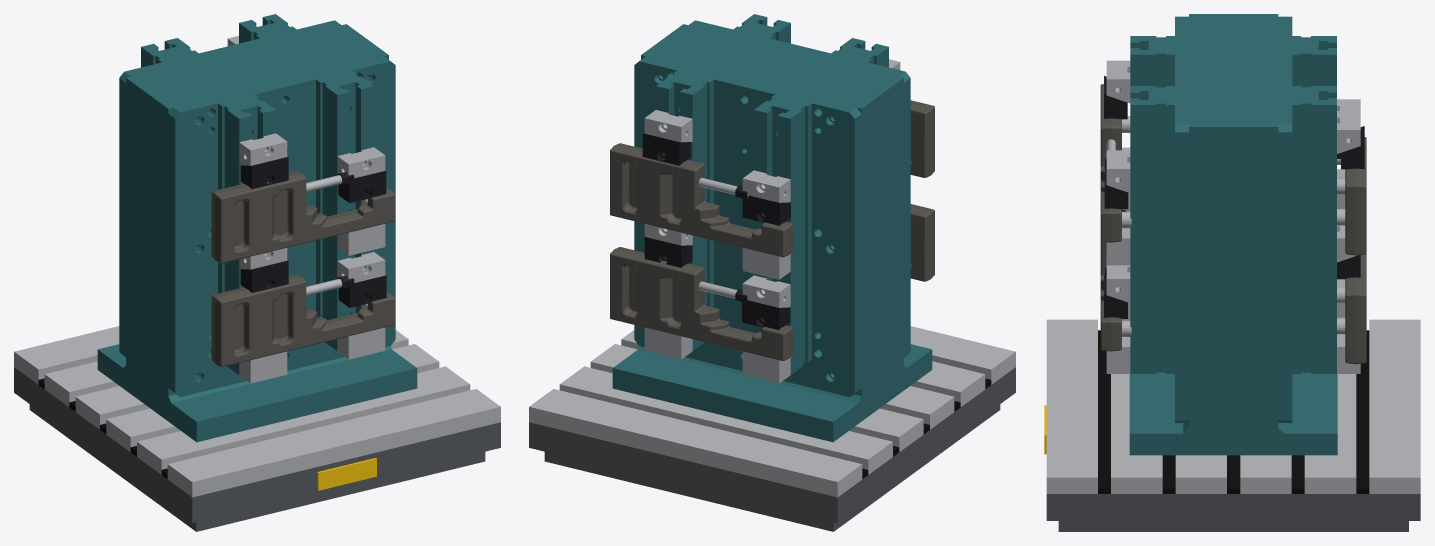
File: pallet_part00_phase10_loaded.glb
3 views of the same model, side by side, from view 1: azimuth 30°, elevation 25°; view 2: azimuth 150°, elevation 25°; view 3: azimuth 270°, elevation 25° (orthographic). The views are drawn at different scales.
Parts seen in each view (by area): view 1: fixture__fx_paint, pallet_body__pb_steel, pallet_body__pb_steel_dark, part_2__part_raw, part_1__part_raw, fixture__fx_steel, pallet_body__pb_safety_yellow, gripper_jaw_4__fx_oxide, gripper_jaw_3__fx_oxide, gripper_jaw_8__fx_oxide, gripper_jaw_5__fx_oxide; view 2: fixture__fx_paint, pallet_body__pb_steel, pallet_body__pb_steel_dark, part_3__part_raw, part_4__part_raw, fixture__fx_steel, part_2__part_raw, part_1__part_raw, gripper_jaw_7__fx_oxide, gripper_jaw_2__fx_oxide, gripper_jaw_1__fx_oxide, gripper_jaw_6__fx_oxide; view 3: fixture__fx_paint, pallet_body__pb_steel, pallet_body__pb_steel_dark, fixture__fx_steel, pallet_body__pb_rubber, part_3__part_raw, part_4__part_raw, part_2__part_raw, part_1__part_raw, gripper_jaw_7__fx_oxide, gripper_jaw_8__fx_oxide, gripper_jaw_3__fx_oxide (+2 smaller).
Part boxes in pixels (x1,y1,x2,y2): fixture__fx_paint: (97,14,417,442); pallet_body__pb_steel: (14,326,500,497); pallet_body__pb_steel_dark: (14,367,500,531); part_2__part_raw: (211,171,394,263); part_1__part_raw: (211,274,394,367); fixture__fx_steel: (227,35,385,383); pallet_body__pb_safety_yellow: (317,458,376,490); gripper_jaw_4__fx_oxide: (240,260,288,292); gripper_jaw_3__fx_oxide: (240,157,288,189); gripper_jaw_8__fx_oxide: (338,171,386,203); gripper_jaw_5__fx_oxide: (338,275,386,307); fixture__fx_paint: (612,14,932,442); pallet_body__pb_steel: (529,326,1015,497); pallet_body__pb_steel_dark: (529,367,1015,531); part_3__part_raw: (610,247,793,360); part_4__part_raw: (610,143,793,257); fixture__fx_steel: (644,59,900,383); part_2__part_raw: (910,100,934,177); part_1__part_raw: (910,204,934,281); gripper_jaw_7__fx_oxide: (642,133,690,165); gripper_jaw_2__fx_oxide: (742,195,790,225); gripper_jaw_1__fx_oxide: (742,300,790,329); gripper_jaw_6__fx_oxide: (644,237,692,267); fixture__fx_paint: (1129,14,1337,455); pallet_body__pb_steel: (1046,319,1420,493); pallet_body__pb_steel_dark: (1046,494,1420,531); fixture__fx_steel: (1106,60,1360,373); pallet_body__pb_rubber: (1098,330,1369,493); part_3__part_raw: (1345,254,1366,364); part_4__part_raw: (1345,137,1366,255); part_2__part_raw: (1100,84,1121,242); part_1__part_raw: (1100,241,1121,351); gripper_jaw_7__fx_oxide: (1341,126,1364,169); gripper_jaw_8__fx_oxide: (1104,166,1128,209); gripper_jaw_3__fx_oxide: (1104,76,1127,119).
Bounding box in the file's own units: 0.63 × 0.72 × 0.634.
